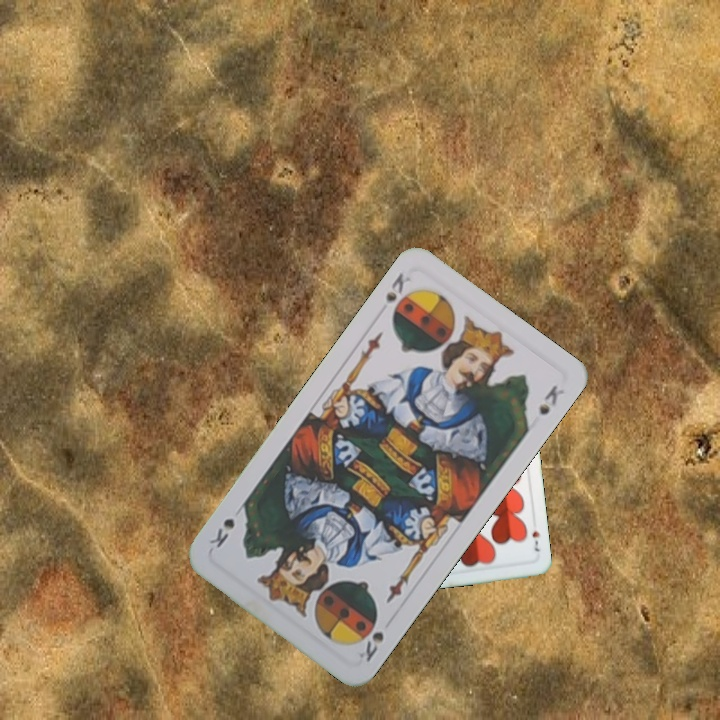H7: (528, 527, 542, 554)
SK: (352, 627, 387, 665), (381, 268, 414, 306)
